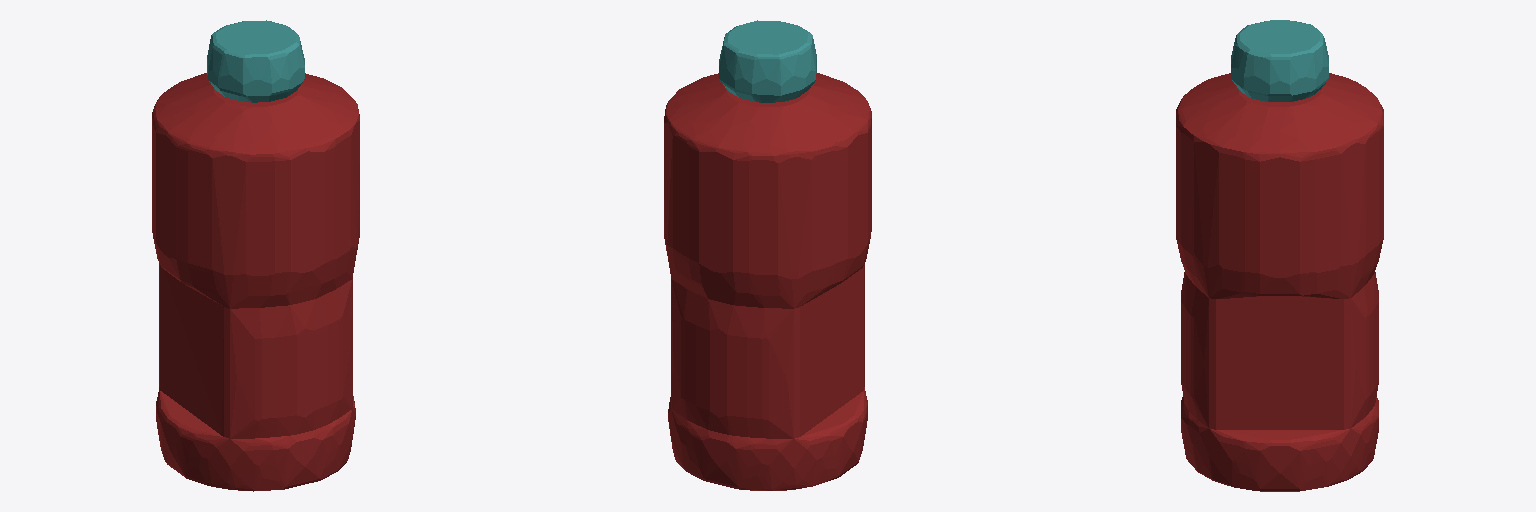
robot.urdf — root:
<robot name="root">
  <link name="bottle_body">
    <inertial>
      <origin xyz="0 0 0" rpy="0 0 0"/>
    </inertial>
    <mass value="1.00E-02"/>
    <visual>
      <origin xyz="0 0 0" rpy="0 0 0"/>
      <geometry>
        <mesh filename="core-bottle-8a0320b2be22e234d0d131ea6d955bf0-coacd_convex_piece_3.obj" scale="1.0000E-01 1.0000E-01 1.0000E-01"/>
      </geometry>
      <material name="">
        <color rgba="6.00E-01 2.00E-01 2.00E-01 1"/>
      </material>
    </visual>
    <collision>
      <origin xyz="0 0 0" rpy="0 0 0"/>
      <geometry>
        <mesh filename="core-bottle-8a0320b2be22e234d0d131ea6d955bf0-coacd_convex_piece_3.obj" scale="1.0000E-01 1.0000E-01 1.0000E-01"/>
      </geometry>
    </collision>
    <visual>
      <origin xyz="0 0 0" rpy="0 0 0"/>
      <geometry>
        <mesh filename="core-bottle-8a0320b2be22e234d0d131ea6d955bf0-coacd_convex_piece_1.obj" scale="1.0000E-01 1.0000E-01 1.0000E-01"/>
      </geometry>
      <material name="">
        <color rgba="6.00E-01 2.00E-01 2.00E-01 1"/>
      </material>
    </visual>
    <collision>
      <origin xyz="0 0 0" rpy="0 0 0"/>
      <geometry>
        <mesh filename="core-bottle-8a0320b2be22e234d0d131ea6d955bf0-coacd_convex_piece_1.obj" scale="1.0000E-01 1.0000E-01 1.0000E-01"/>
      </geometry>
    </collision>
    <visual>
      <origin xyz="0 0 0" rpy="0 0 0"/>
      <geometry>
        <mesh filename="core-bottle-8a0320b2be22e234d0d131ea6d955bf0-coacd_convex_piece_2.obj" scale="1.0000E-01 1.0000E-01 1.0000E-01"/>
      </geometry>
      <material name="">
        <color rgba="6.00E-01 2.00E-01 2.00E-01 1"/>
      </material>
    </visual>
    <collision>
      <origin xyz="0 0 0" rpy="0 0 0"/>
      <geometry>
        <mesh filename="core-bottle-8a0320b2be22e234d0d131ea6d955bf0-coacd_convex_piece_2.obj" scale="1.0000E-01 1.0000E-01 1.0000E-01"/>
      </geometry>
    </collision>
  </link>
  <link name="bottle_cap">
    <origin xyz="0 0 0.002" rpy="0 0 0"/>
    <mass value="1.00E-02"/>
    <visual>
      <origin xyz="0 0 0.002" rpy="0 0 0"/>
      <geometry>
        <mesh filename="core-bottle-8a0320b2be22e234d0d131ea6d955bf0-coacd_convex_piece_0.obj" scale="1.0000E-01 1.0000E-01 1.0000E-01"/>
      </geometry>
      <material name="">
        <color rgba="3.00E-01 6.00E-01 6.00E-01 1"/>
      </material>
    </visual>
    <collision>
      <origin xyz="0 0 0.002" rpy="0 0 0"/>
      <geometry>
        <mesh filename="core-bottle-8a0320b2be22e234d0d131ea6d955bf0-coacd_convex_piece_0.obj" scale="1.0000E-01 1.0000E-01 1.0000E-01"/>
      </geometry>
    </collision>
  </link>
  <joint name="bottle_cap_joint" type="revolute">
    <origin xyz="0 0 0" rpy="0 0 0"/>
    <parent link="bottle_body"/>
    <child link="bottle_cap"/>
    <axis xyz="0 0 1"/>
    <limit lower="0.00" upper="6.28"/>
    <dynamics damping="0.05"/>
  </joint>
</robot>

--- Facts derived from the render (not from the file) ---
Views: 3 orthographic renders of the robot side by side, from view 1: azimuth 30°, elevation 25°; view 2: azimuth 150°, elevation 25°; view 3: azimuth 270°, elevation 25°.
Model root with 2 links and 1 joints (1 revolute), rooted at bottle_body, posed all joints at 0.
Visible links, largest first — view 1: bottle_body, bottle_cap; view 2: bottle_body, bottle_cap; view 3: bottle_body, bottle_cap.
Link boxes in pixels (x1,y1,x2,y2): bottle_body: (152, 73, 359, 491); bottle_cap: (207, 20, 304, 102); bottle_body: (664, 73, 871, 490); bottle_cap: (719, 20, 816, 102); bottle_body: (1176, 73, 1383, 491); bottle_cap: (1231, 20, 1328, 101).
Bounding box of the posed robot: 0.083 × 0.083 × 0.1838 m (x, y, z).
4 mesh visuals loaded from 4 distinct referenced files (4 OBJ).